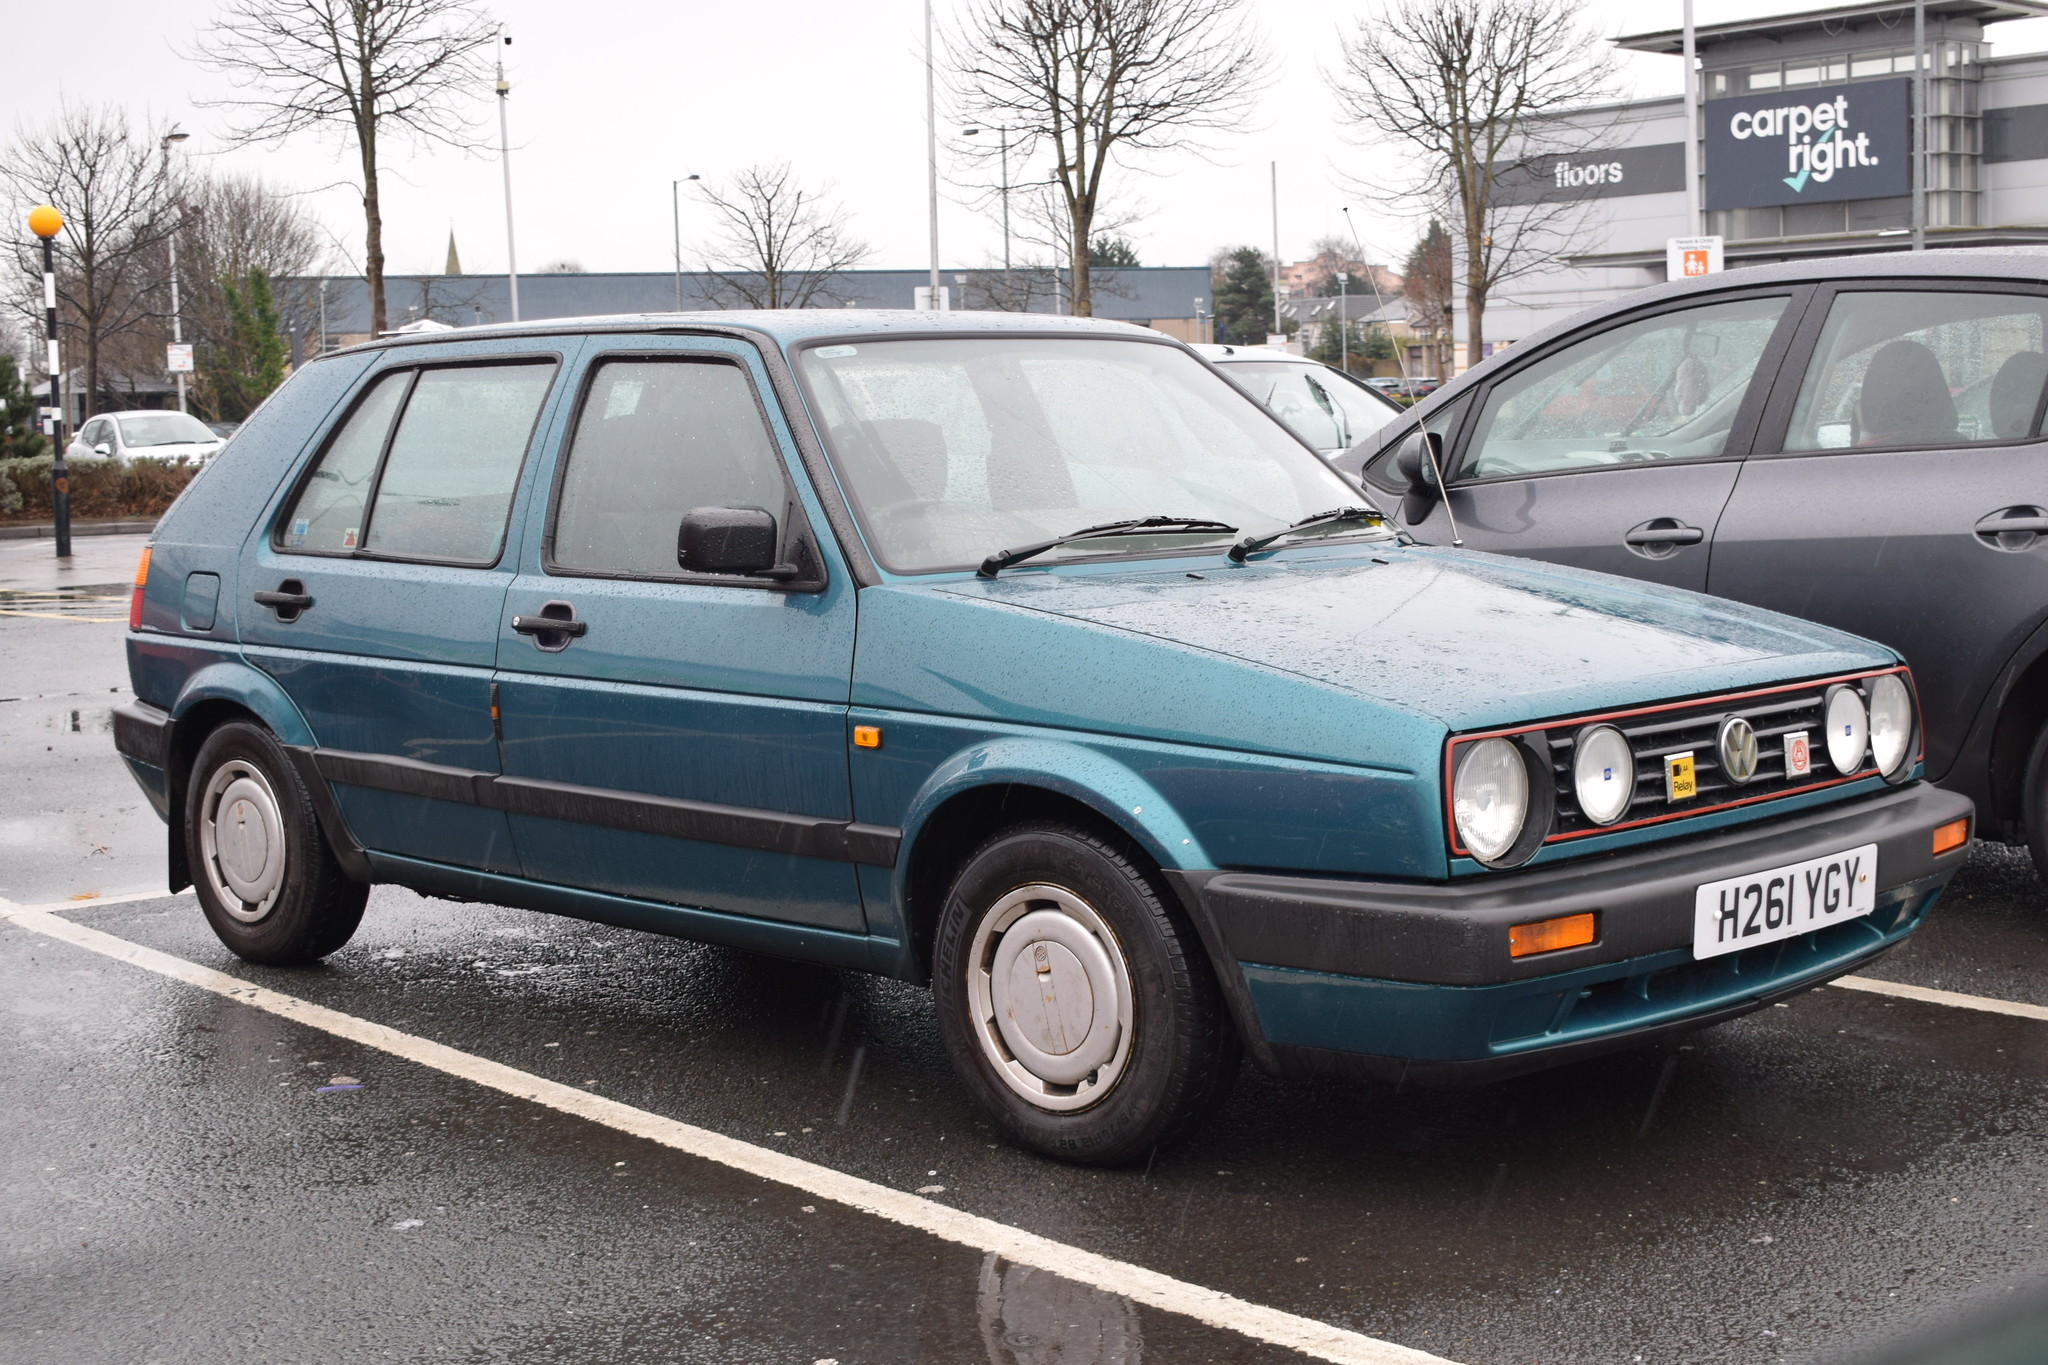car: (111, 318, 1951, 1202), (1361, 296, 2048, 830)
